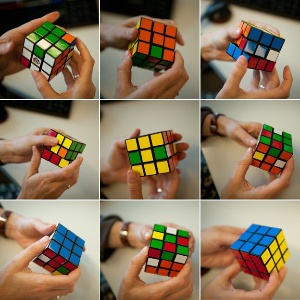cube: (230, 224, 291, 283), (20, 22, 78, 81), (225, 20, 284, 74), (32, 222, 86, 278), (126, 17, 178, 70), (125, 129, 179, 178), (143, 223, 192, 277), (250, 125, 294, 176), (36, 128, 86, 168)
